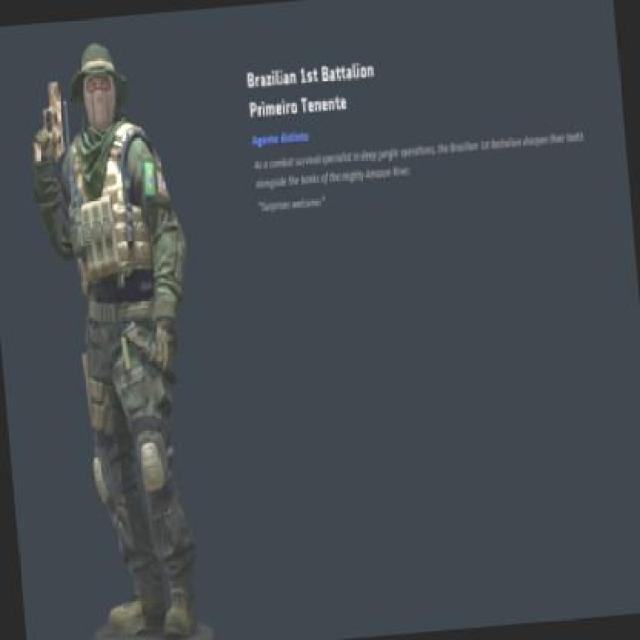MIL_Pax: (19, 34, 228, 638)
